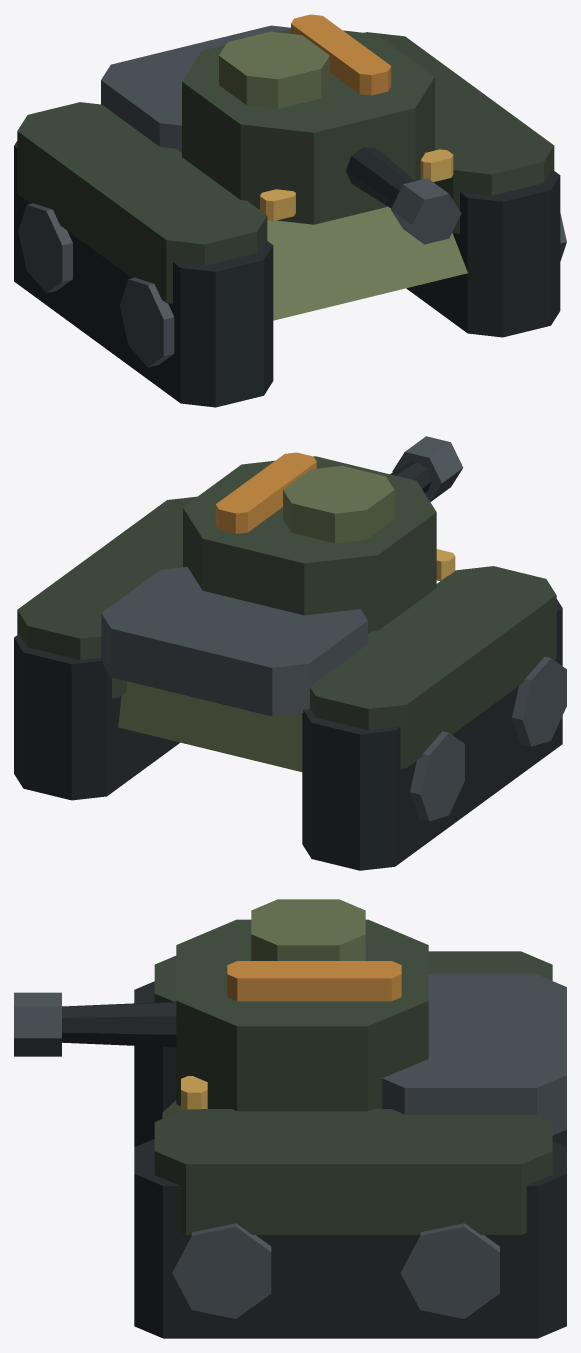
File: light_tank.glb
3 renders of one model, top to bottom at view 1: azimuth 30°, elevation 25°; view 2: azimuth 150°, elevation 25°; view 3: azimuth 270°, elevation 25°, orthographic. The views are drawn at different scales.
Parts seen in each view (by area): view 1: light_tank; view 2: light_tank; view 3: light_tank.
Boxes of the visible parts, x1,y1,x2,y2 form: light_tank: (14, 14, 566, 407); light_tank: (14, 436, 566, 870); light_tank: (14, 899, 566, 1338).
Bounding box in the file's own units: 0.866 × 0.541 × 0.92.
